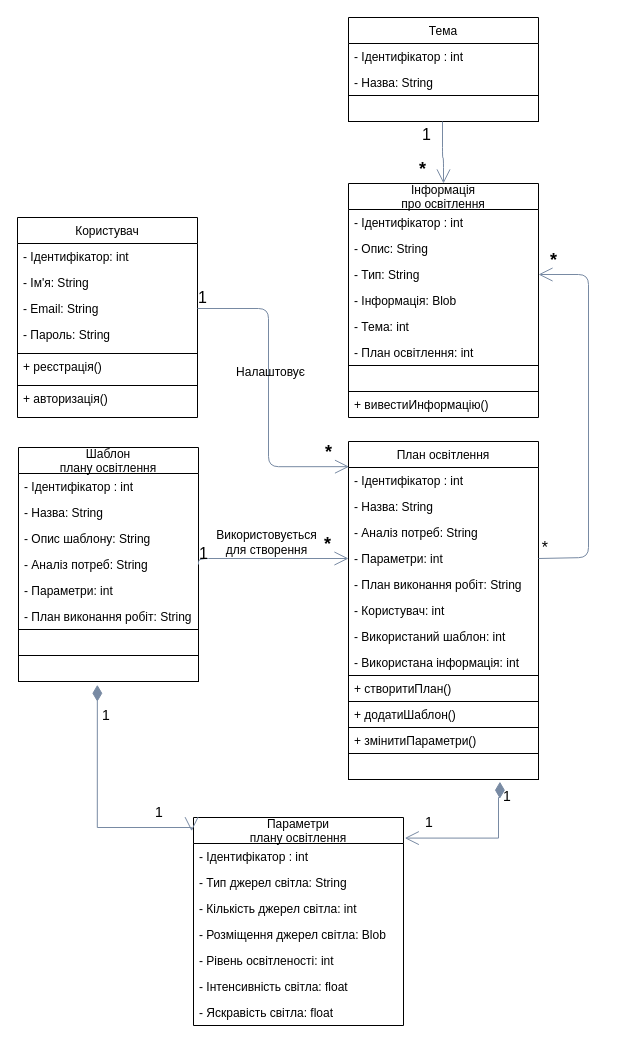
Some shapes in this 620 by 1046 pixel diagram are drawn without their labels. Each missing label, with the centre of its shape:
+ вивестиПлан(): (x=443, y=766)
+ вивестиСписокИнфоНаТему(): (x=443, y=378)
+ вивестиСписокТем(): (x=443, y=108)
+ вивестиСписокШаблонів(): (x=108, y=642)
+ вивестиШаблон(): (x=108, y=668)
